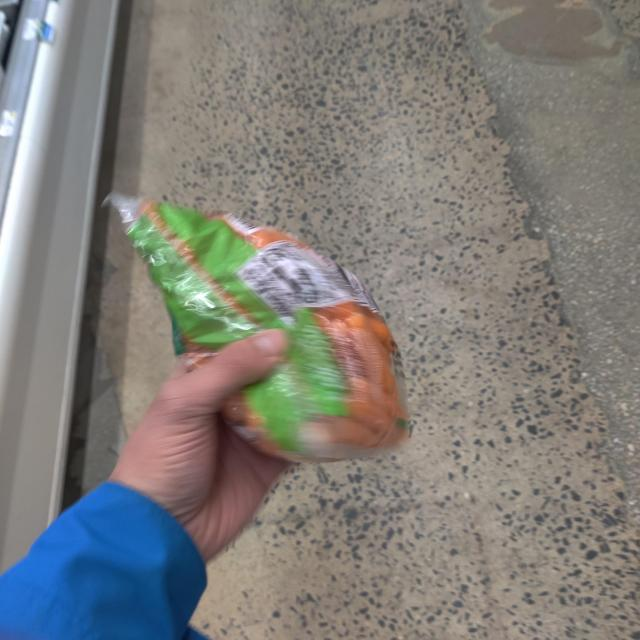Carrots: (101, 162, 433, 503)
